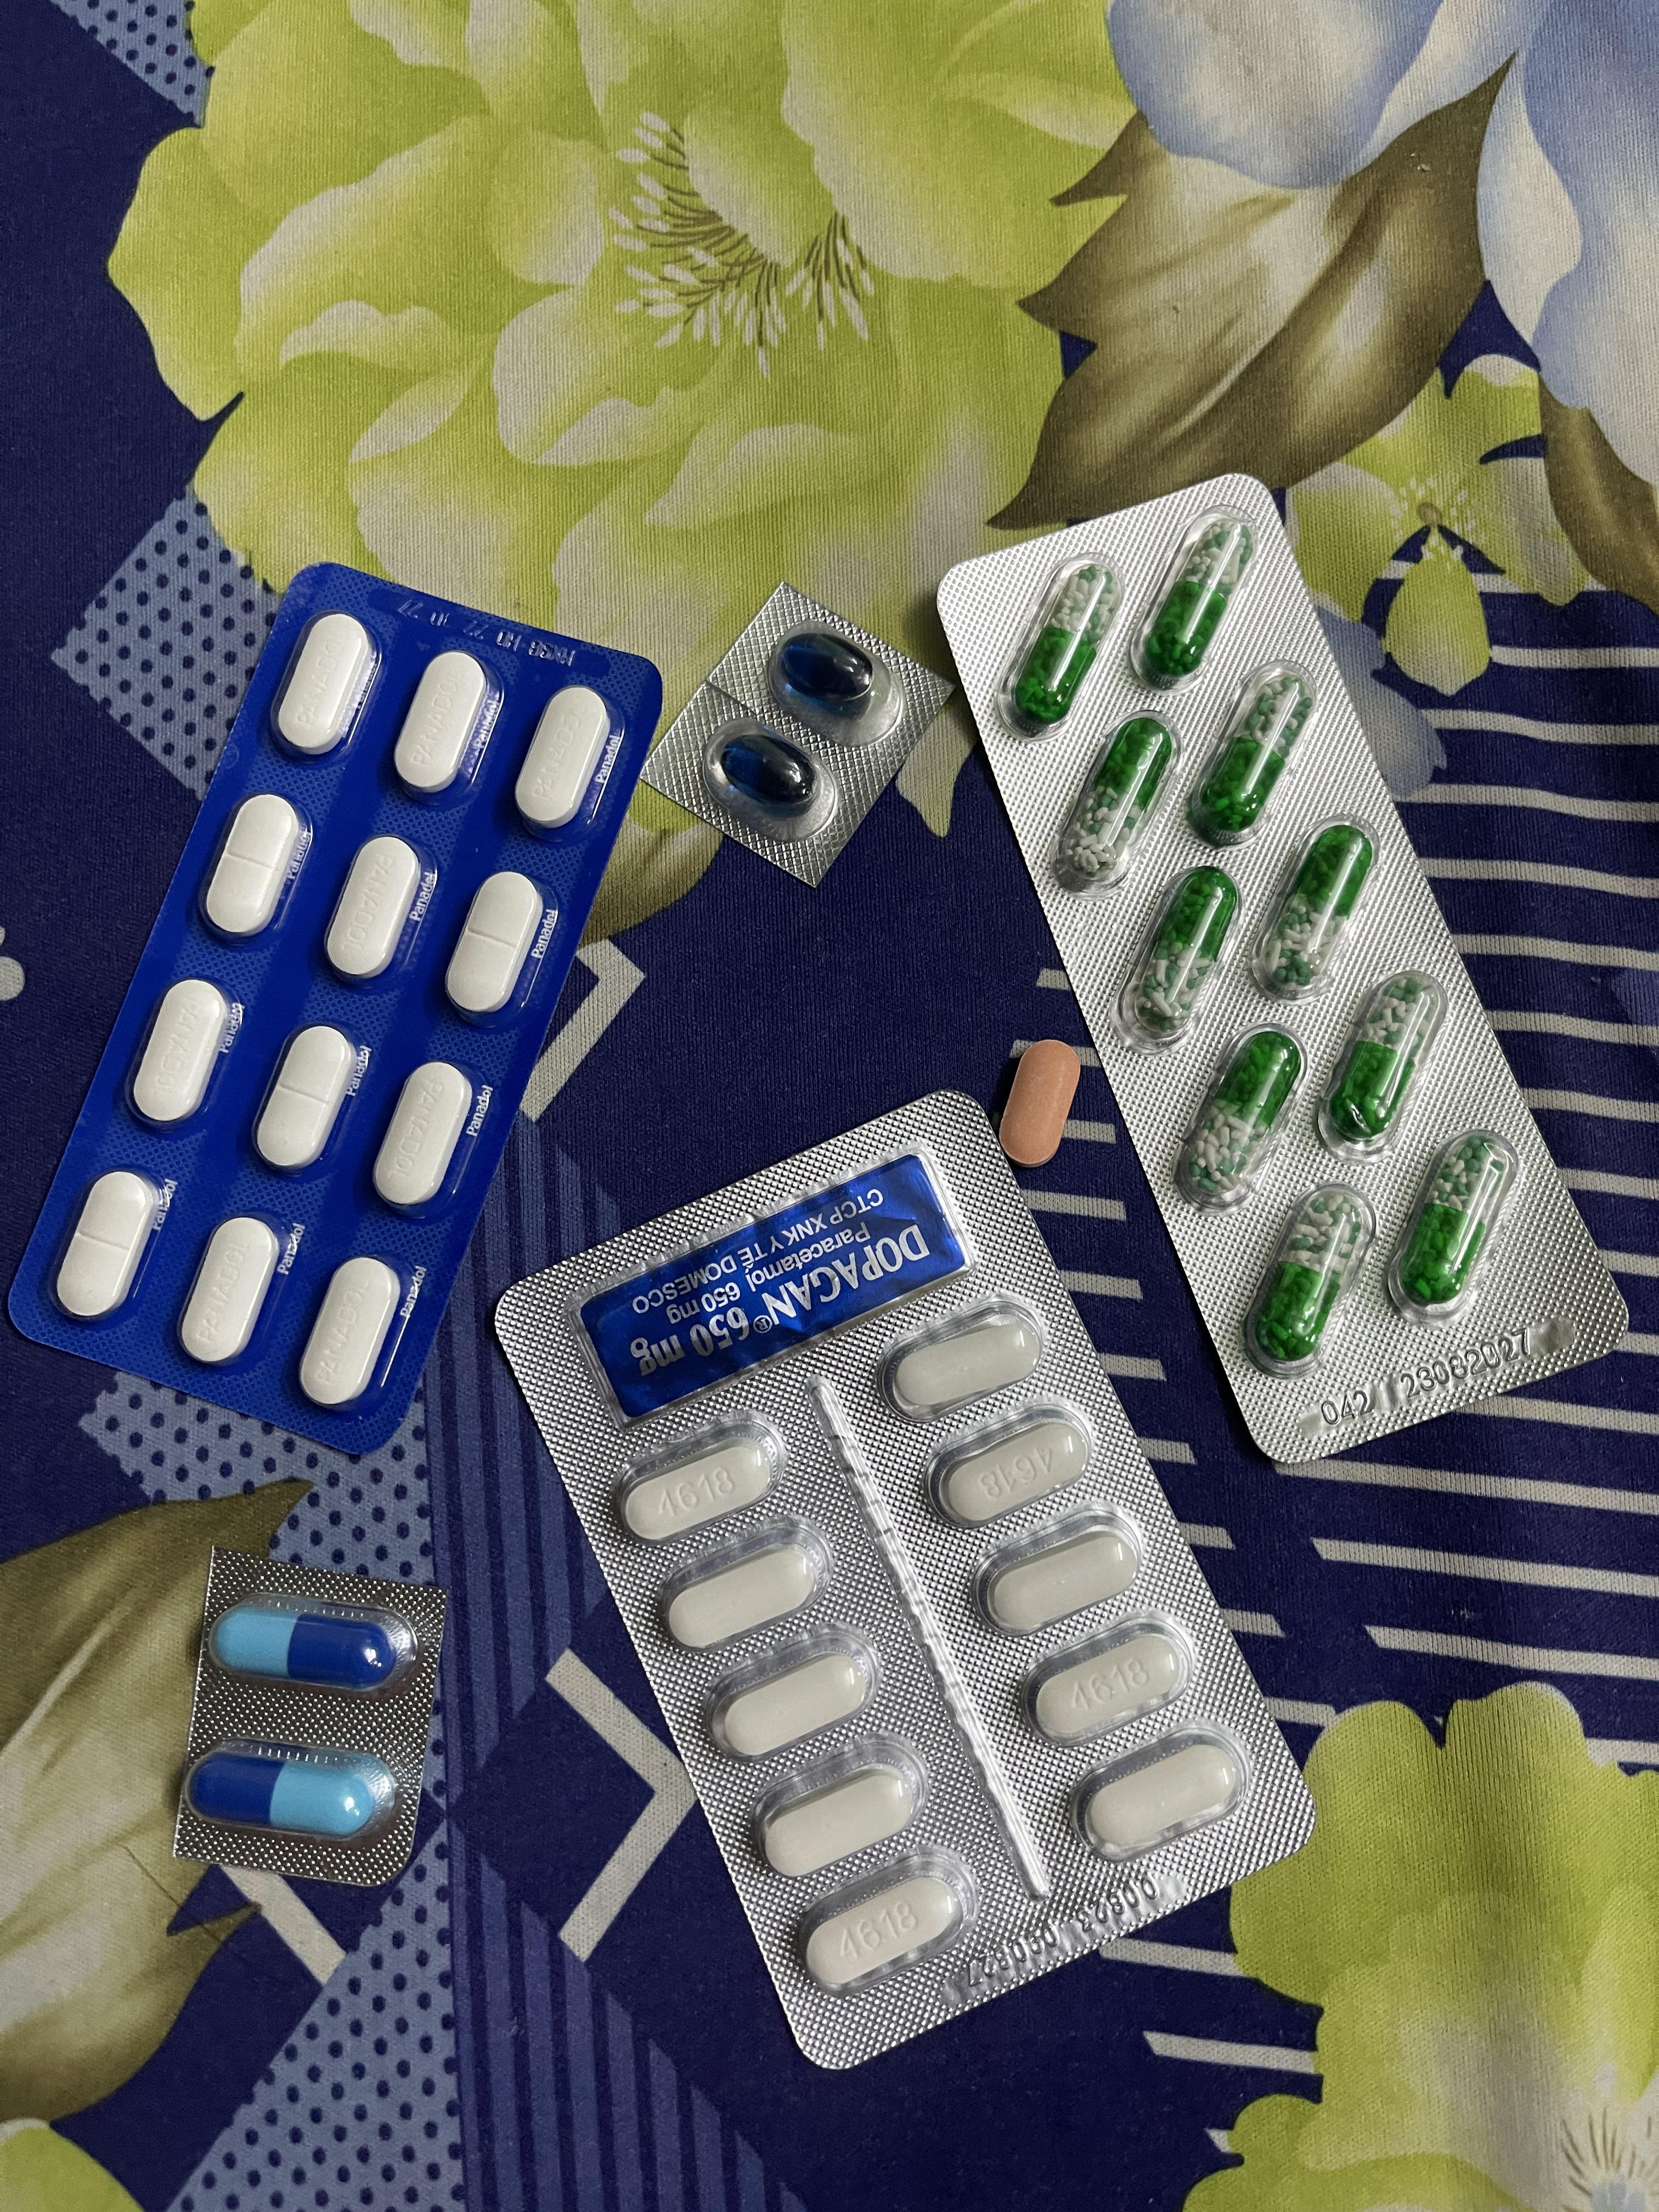Lincomyxin_500mg: (720, 735, 817, 810), (781, 634, 877, 707)
Loratadine_10mg: (997, 1040, 1080, 1167)
Paracetamol_350mg: (54, 1167, 160, 1322), (298, 1256, 404, 1409), (253, 1024, 359, 1176), (178, 1217, 282, 1369), (202, 792, 307, 944), (321, 834, 425, 984), (373, 1062, 476, 1212), (129, 977, 230, 1129), (444, 871, 545, 1021), (512, 685, 612, 834), (274, 613, 376, 758), (390, 651, 490, 796)
Paracetamol_500mg: (613, 1407, 791, 1543), (1016, 1608, 1194, 1742), (807, 1874, 960, 1994), (1082, 1740, 1237, 1857), (716, 1648, 868, 1763), (763, 1764, 917, 1878), (666, 1536, 817, 1649), (983, 1533, 1141, 1637), (894, 1312, 1035, 1413), (948, 1433, 1080, 1524)
Paracetamol_650mg: (1194, 679, 1310, 843), (1255, 1193, 1364, 1362), (1187, 1033, 1298, 1198), (1262, 831, 1371, 989), (1399, 1143, 1507, 1303), (1066, 723, 1173, 885), (1326, 979, 1432, 1141), (1129, 873, 1236, 1033), (1143, 523, 1248, 681), (1014, 568, 1114, 718)
pill: (186, 1749, 397, 1839), (207, 1602, 416, 1693)
